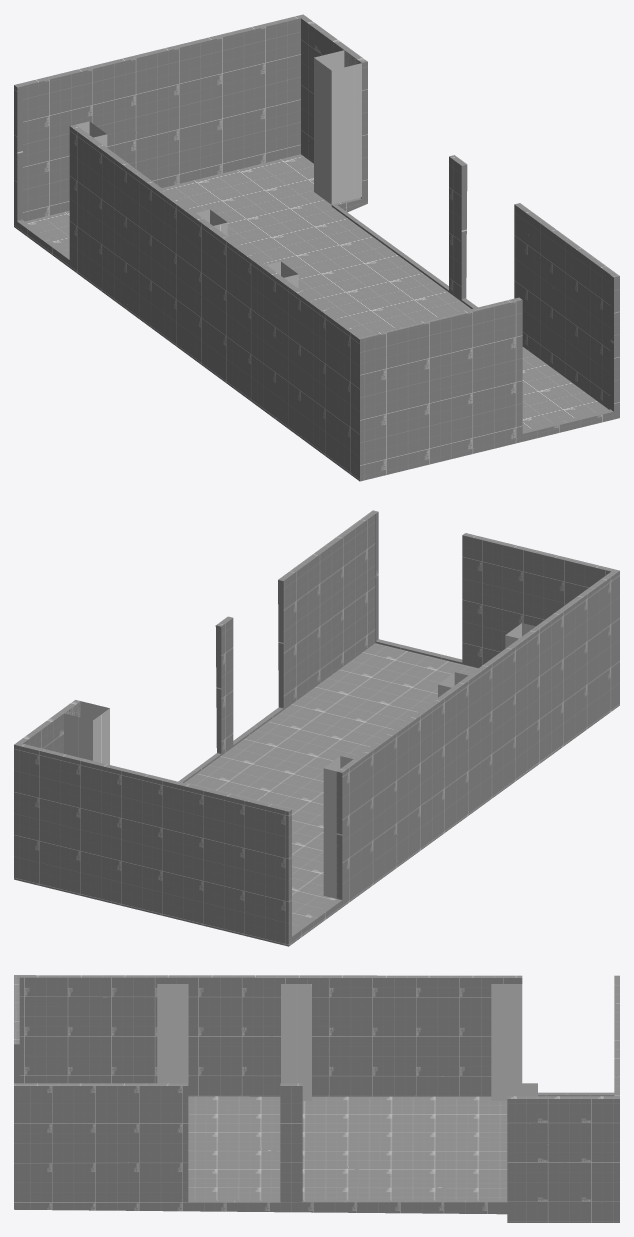
The model's file is room2.obj.
The picture shows the model from 3 angles, top to bottom: view 1: azimuth 30°, elevation 25°; view 2: azimuth 150°, elevation 25°; view 3: azimuth 270°, elevation 25°; orthographic projection. The views are drawn at different scales.
Visible parts, largest first — view 1: Plane.003; view 2: Plane.003; view 3: Plane.003.
Part boxes in pixels (left/top/right/bottom): Plane.003: left=14, top=14, right=619, bottom=481; Plane.003: left=14, top=510, right=619, bottom=946; Plane.003: left=14, top=975, right=619, bottom=1222.
Size of the model in its own units: 2.53 by 1.23 by 5.22.
